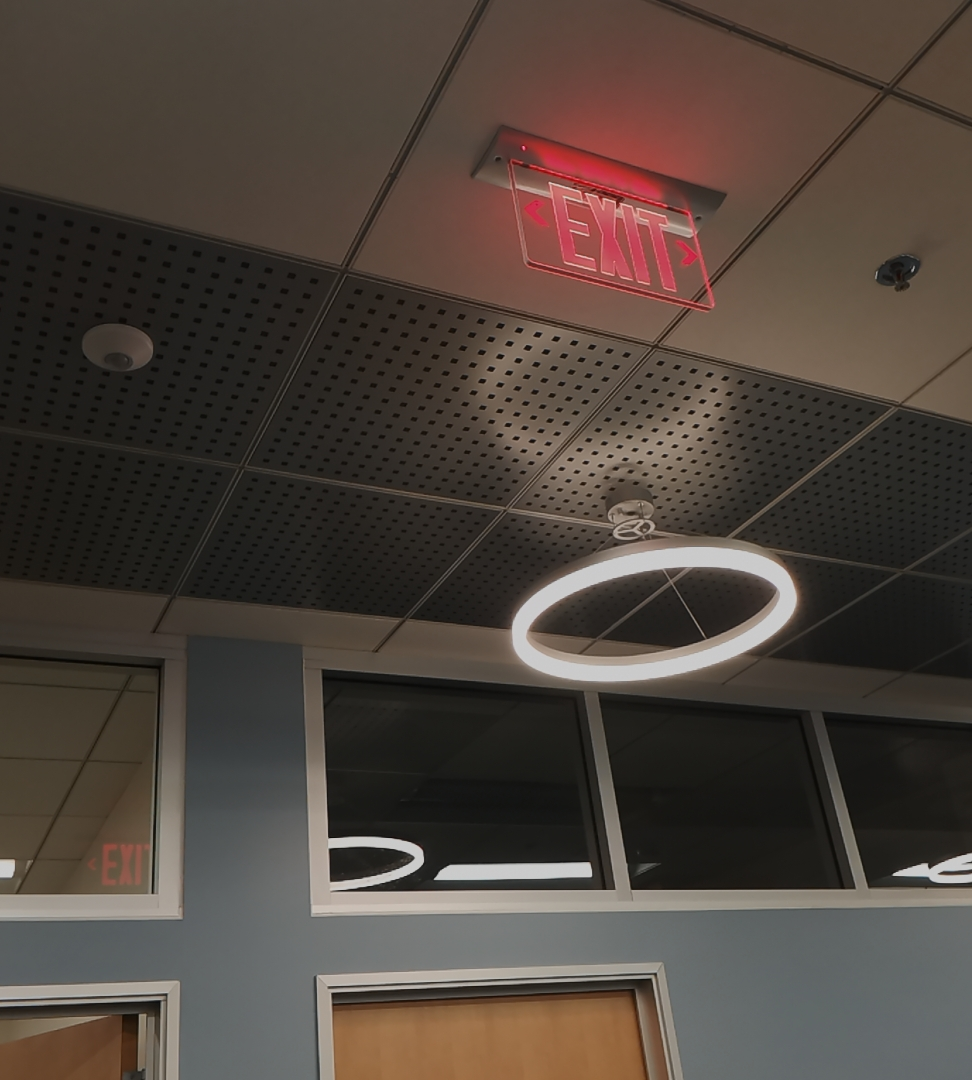emergency_exit: (471, 125, 727, 314), (504, 156, 718, 313)
